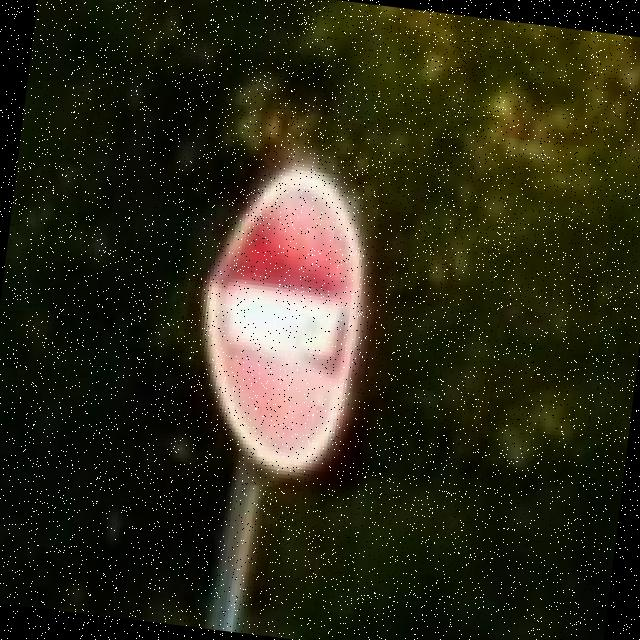Zakaz wjazdu: (183, 156, 378, 484)
